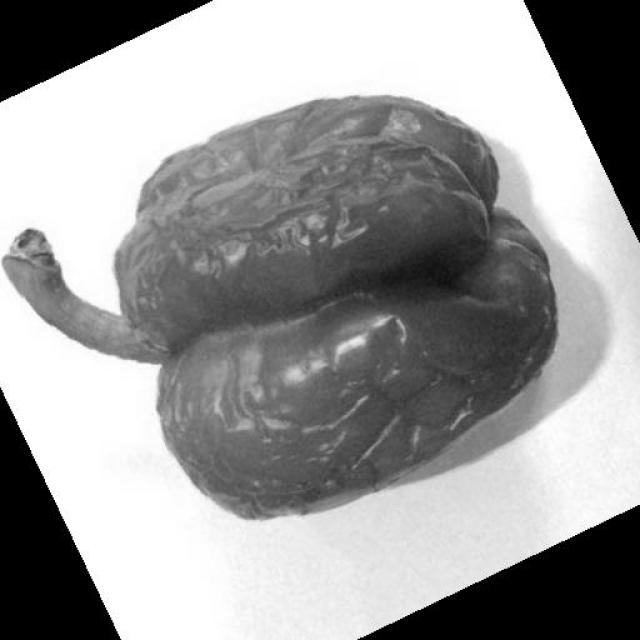Stale_Capsicum: (26, 99, 563, 492)
